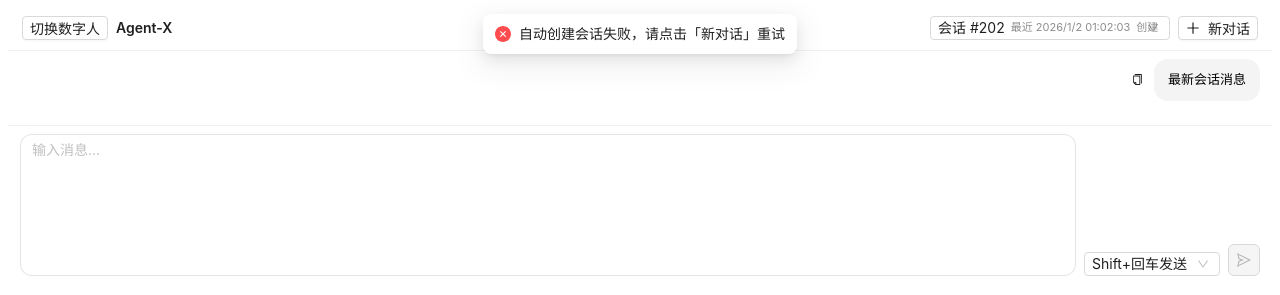
WorkitemClarificationPanel › lists current-agent sessions and loads messages from the selected historical session
Expected: the text "最新会话消息" is shown, x1=1154 y1=59 x2=1260 y2=101
Expected: the text box with placeholder "输入消息..." is empty, x1=20 y1=134 x2=1076 y2=276
Press the mouse on the dropdown labelled "会话 #202 最近 2026/1/2 01:02:03 创建 2026/1/2 00:00:00" at (1050,28), box x1=938 y1=17 x2=1162 y2=39
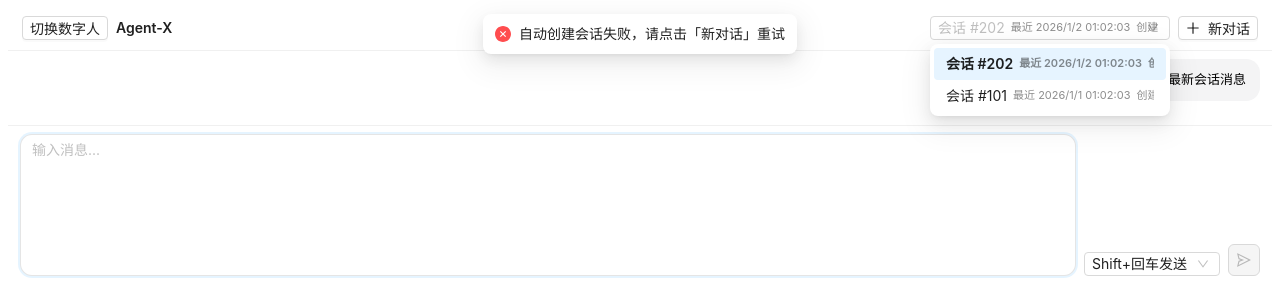
Expected: the text "会话 #101" is shown
Click the text "会话 #101" at (976,96), box x1=946 y1=85 x2=1007 y2=107
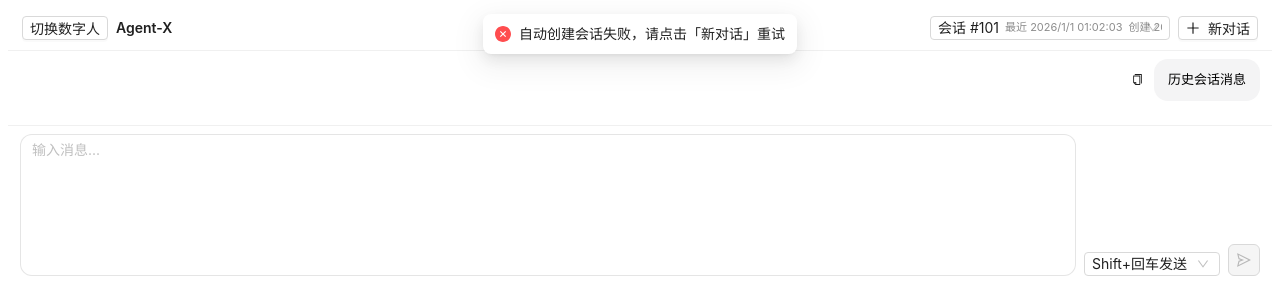
Expected: the text "历史会话消息" is shown, x1=1154 y1=59 x2=1260 y2=101
Expected: the text "最新会话消息" is gone
